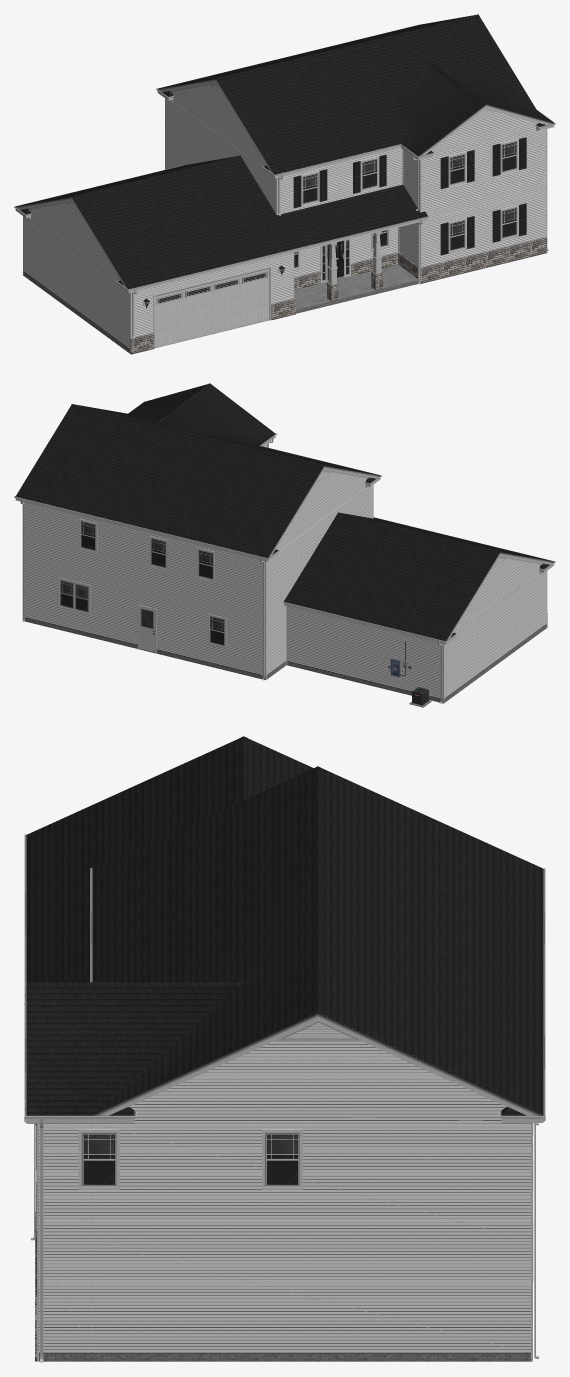
File: house23_mirror1.fbx
3 renders of one model, top to bottom at view 1: azimuth 30°, elevation 25°; view 2: azimuth 150°, elevation 25°; view 3: azimuth 270°, elevation 25°, orthographic. The views are drawn at different scales.
Visible parts, largest first — view 1: house23_mirror1_LOD0; view 2: house23_mirror1_LOD0; view 3: house23_mirror1_LOD0.
Boxes of the visible parts, box(x1,y1,x2,y2) form: house23_mirror1_LOD0: box(14, 14, 555, 354); house23_mirror1_LOD0: box(14, 383, 555, 707); house23_mirror1_LOD0: box(24, 736, 545, 1362).
Size of what is drawn, in the model's own units: 5.76 by 2.36 by 3.16.
